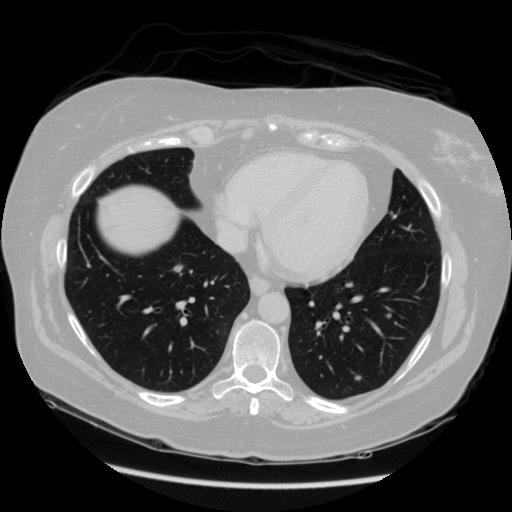nodule: (171, 261, 185, 275)
